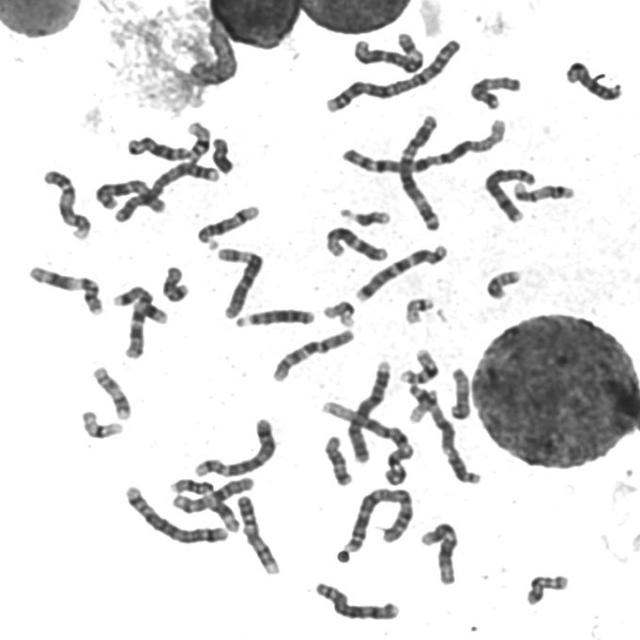A1: (336, 111, 509, 176), (316, 396, 415, 482)
A2: (320, 32, 464, 114), (338, 482, 416, 554)
A3: (404, 380, 484, 486), (393, 109, 445, 232)
B4: (108, 155, 221, 225), (343, 355, 393, 465)
B5: (118, 480, 231, 545), (188, 412, 278, 480)
C10: (266, 322, 358, 383), (166, 471, 255, 515)
C11: (23, 260, 105, 317), (165, 474, 241, 534)
C12: (415, 516, 461, 587), (320, 221, 390, 263)
C6: (211, 242, 268, 322), (353, 31, 424, 75)
C7: (351, 239, 450, 303), (110, 279, 156, 362)
C8: (309, 576, 402, 622), (480, 162, 538, 224)
C9: (232, 489, 282, 576), (37, 164, 93, 240)
D13: (230, 303, 317, 329), (127, 136, 192, 162)
D14: (192, 200, 262, 248), (565, 60, 623, 102)
D15: (464, 70, 524, 112), (444, 362, 473, 422)
E16: (395, 343, 441, 385), (180, 116, 213, 163)
E17: (88, 362, 132, 422), (508, 177, 577, 204)
E18: (319, 430, 355, 488), (157, 260, 191, 304)
F19: (76, 405, 125, 440), (317, 294, 358, 328)
F20: (521, 569, 571, 607), (482, 265, 524, 301)
G21: (334, 206, 393, 228), (132, 300, 169, 326)
G22: (404, 382, 441, 424), (399, 292, 436, 326)
X: (95, 178, 168, 216)
Y: (207, 132, 236, 174)
